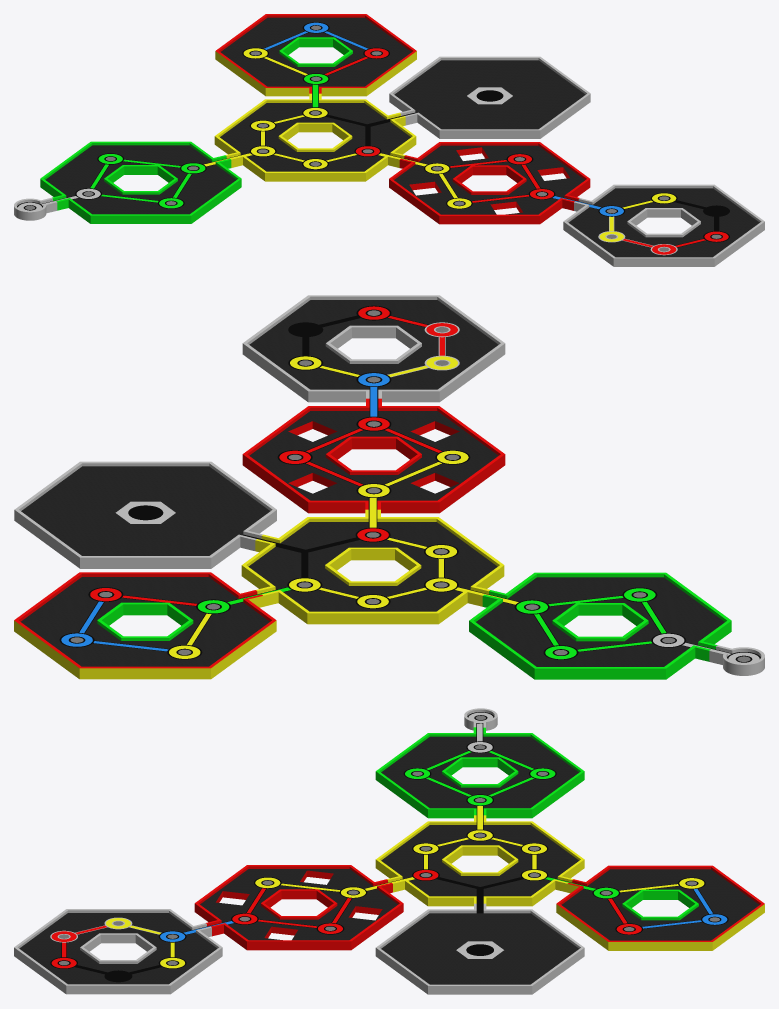
Rendered from level_select.dae.
The picture shows the model from 3 angles, top to bottom: view 1: azimuth 30°, elevation 25°; view 2: azimuth 150°, elevation 25°; view 3: azimuth 270°, elevation 25°; orthographic projection. The views are drawn at different scales.
Parts seen in each view (by area): view 1: SketchUp (×34); view 2: SketchUp (×35); view 3: SketchUp (×33).
Boxes of the visible parts, x1,y1,x2,y2 form: SketchUp (×34): (14,14,764,266); SketchUp (×35): (14,295,764,679); SketchUp (×33): (14,712,764,994).
Size of the model in its own units: 18571 by 21239 by 276.
